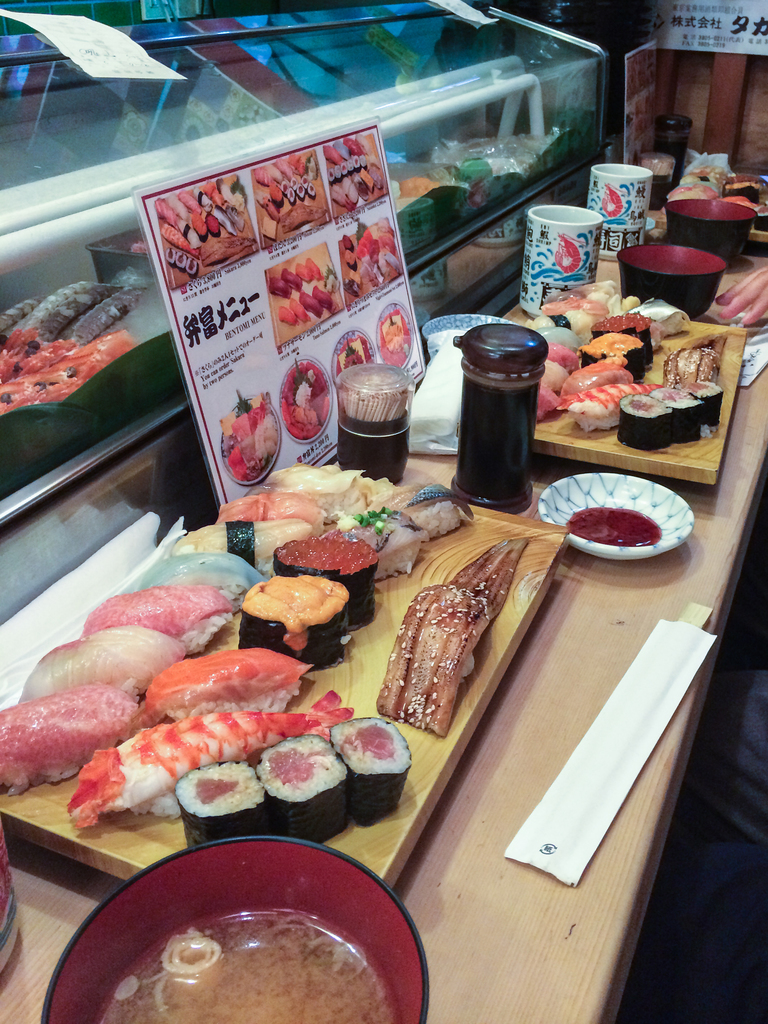sushi: (0, 458, 476, 841), (542, 280, 735, 440), (159, 761, 260, 854)
